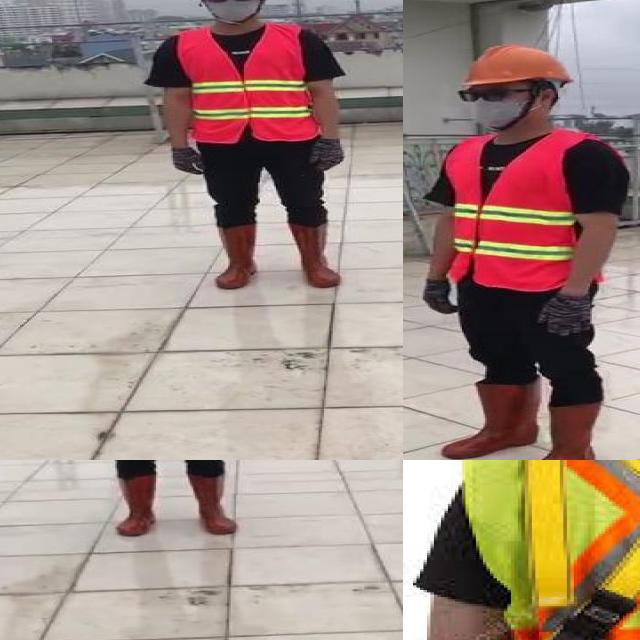Harness: (525, 460, 640, 640)
boots: (440, 381, 542, 460), (519, 402, 601, 460), (285, 221, 345, 290), (186, 473, 240, 536), (212, 223, 260, 290), (114, 476, 162, 537)
face_mask: (457, 86, 531, 132), (198, 0, 264, 23)
glasses: (450, 84, 512, 104), (196, 0, 264, 5)
hand_glove: (538, 293, 599, 338), (421, 278, 464, 315), (310, 142, 347, 170), (171, 145, 201, 176)
head_helmet: (454, 43, 575, 87)
person: (403, 37, 629, 460), (145, 0, 353, 300), (60, 460, 252, 542)
vest: (444, 133, 615, 289), (174, 23, 318, 140)
